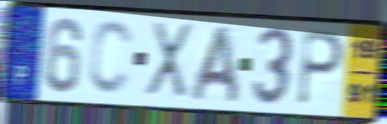3: (249, 26, 297, 108)
6: (43, 15, 84, 96)
A: (187, 23, 242, 105)
C: (86, 18, 136, 99)
P: (295, 28, 346, 109)
X: (143, 19, 195, 103)
